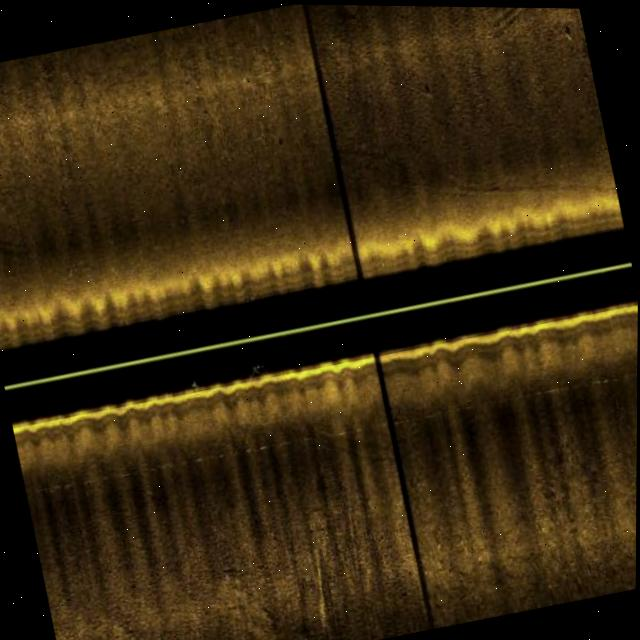mine: (561, 18, 576, 42)
